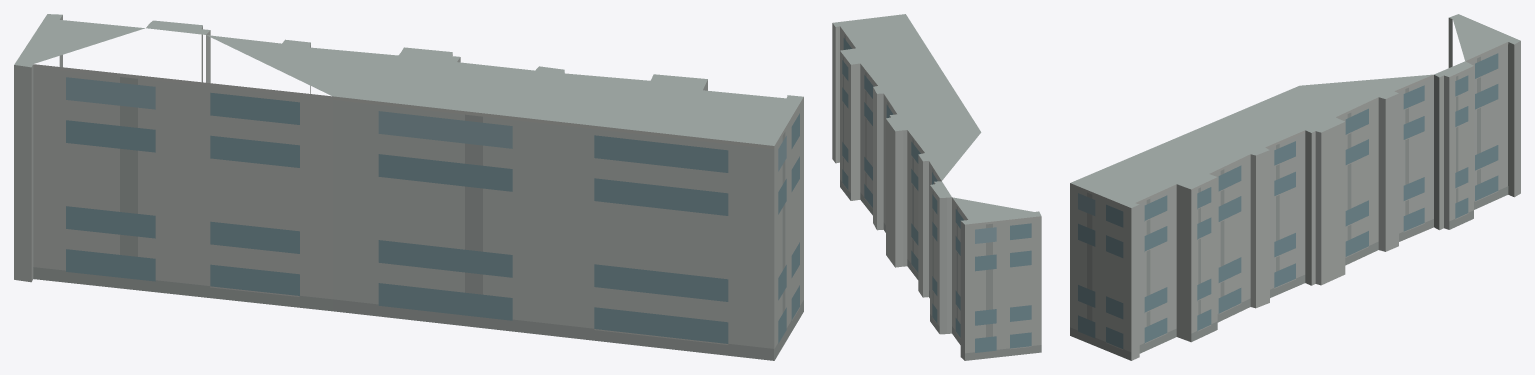
The model's file is survey-upis-32505780.glb.
3 renders of one model, left to right at view 1: azimuth 30°, elevation 25°; view 2: azimuth 150°, elevation 25°; view 3: azimuth 270°, elevation 25°, orthographic. The views are drawn at different scales.
Parts seen in each view (by area): view 1: survey-upis-32505780.tmp; view 2: survey-upis-32505780.tmp; view 3: survey-upis-32505780.tmp.
Boxes of the visible parts, box(x1,y1,x2,y2) form: survey-upis-32505780.tmp: box(14, 14, 803, 360); survey-upis-32505780.tmp: box(832, 14, 1041, 360); survey-upis-32505780.tmp: box(1070, 14, 1520, 360).
Bounding box in the file's own units: 41.56 × 15.25 × 40.78.
